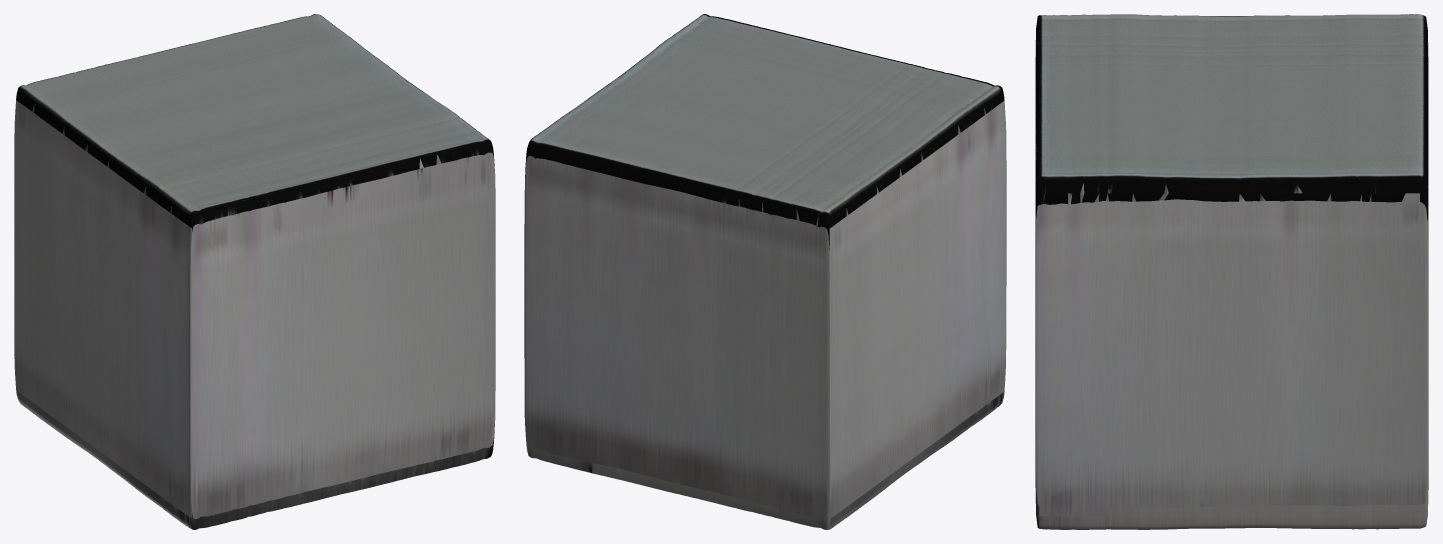
File: ceiling-plaster.glb
The picture shows the model from 3 angles, left to right: view 1: azimuth 30°, elevation 25°; view 2: azimuth 150°, elevation 25°; view 3: azimuth 270°, elevation 25°; orthographic projection. The views are drawn at different scales.
Parts seen in each view (by area): view 1: tmpr6iakcyb.ply; view 2: tmpr6iakcyb.ply; view 3: tmpr6iakcyb.ply.
Boxes of the visible parts, x1,y1,x2,y2 form: tmpr6iakcyb.ply: (14,14,495,529); tmpr6iakcyb.ply: (524,14,1006,529); tmpr6iakcyb.ply: (1035,14,1428,529).
Bounding box in the file's own units: 1 × 1 × 1.
Materials: 1 (1 with a texture image).
